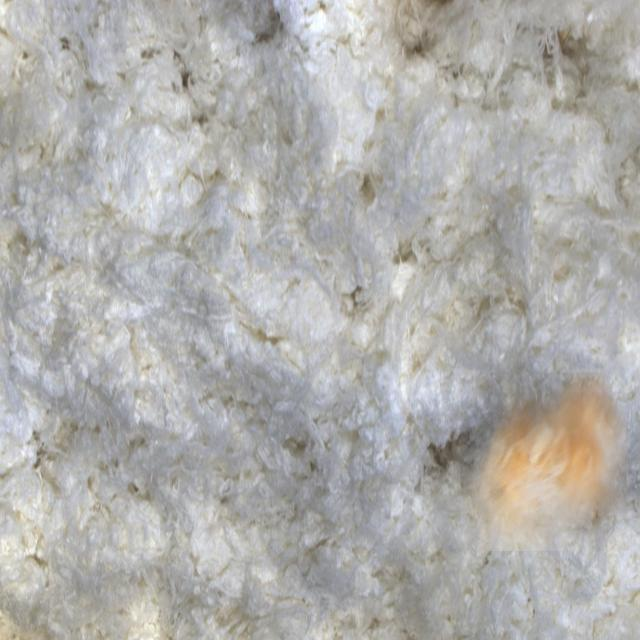dust: (461, 372, 628, 551)
